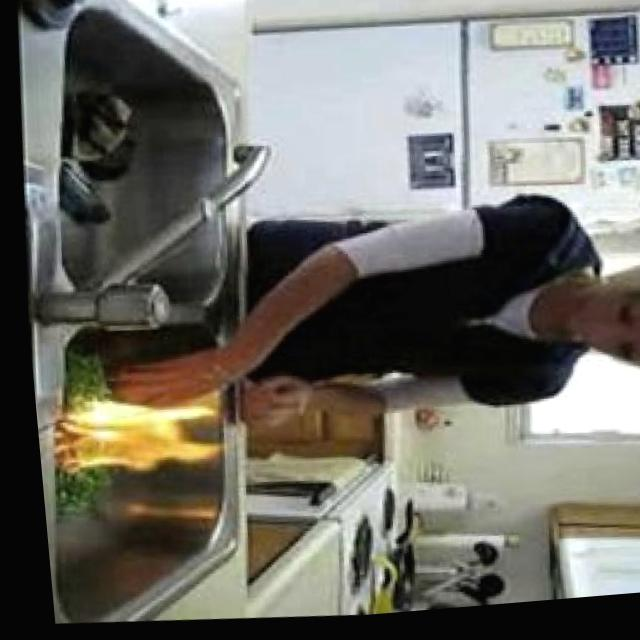helmet: (54, 393, 206, 477)
